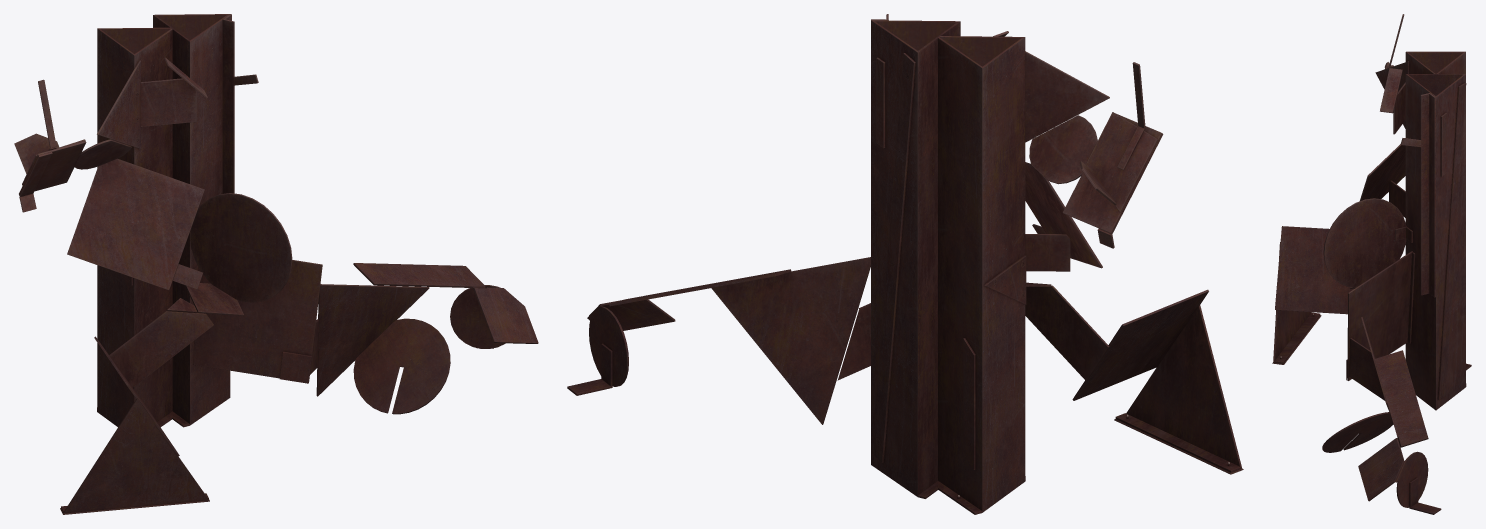
Rendered from AbstractVariationA10.glb.
3 views of the same model, side by side, from view 1: azimuth 30°, elevation 25°; view 2: azimuth 150°, elevation 25°; view 3: azimuth 270°, elevation 25° (orthographic). The views are drawn at different scales.
Parts seen in each view (by area): view 1: AbstractVariationA10_low; view 2: AbstractVariationA10_low; view 3: AbstractVariationA10_low.
Part boxes in pixels (box(x1,y1,x2,y2)): AbstractVariationA10_low: box(14, 14, 538, 514); AbstractVariationA10_low: box(567, 14, 1243, 514); AbstractVariationA10_low: box(1272, 14, 1471, 514).
Bounding box in the file's own units: 3.85 × 2.76 × 1.59.
Materials: 1 (1 with a texture image).
